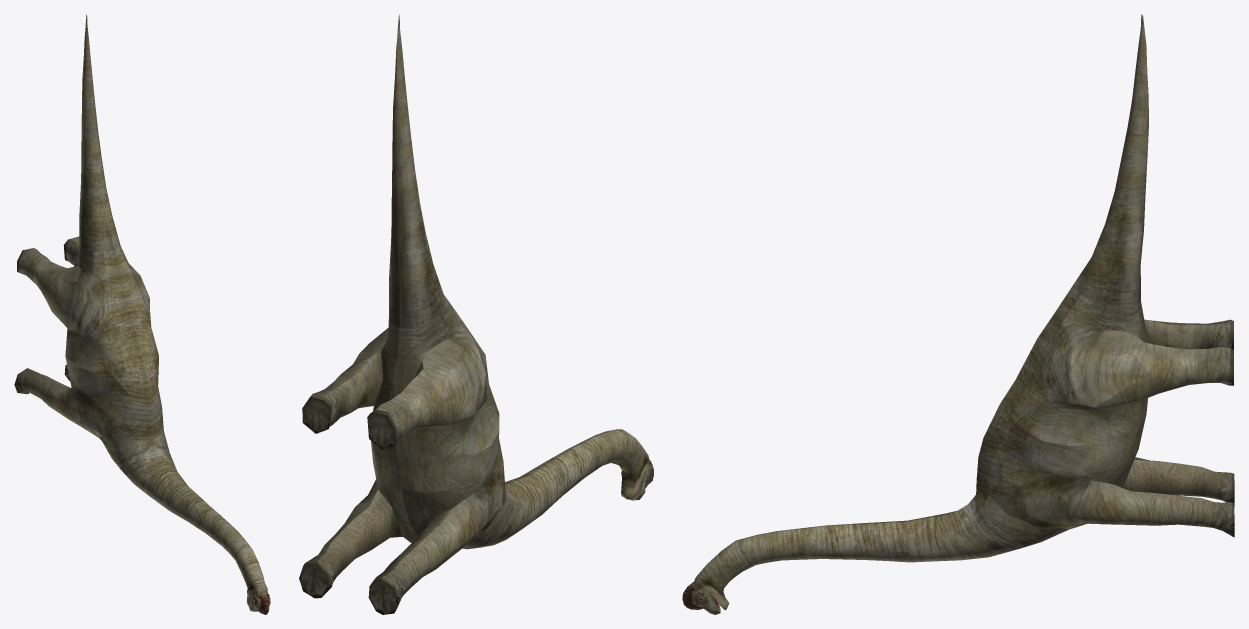
The model's file is Brac.obj.
3 renders of one model, left to right at view 1: azimuth 30°, elevation 25°; view 2: azimuth 150°, elevation 25°; view 3: azimuth 270°, elevation 25°, orthographic. The views are drawn at different scales.
Visible parts, largest first — view 1: D_L_Calf_mesh; view 2: D_L_Calf_mesh; view 3: D_L_Calf_mesh.
Part boxes in pixels (x1,y1,x2,y2): D_L_Calf_mesh: (14,14,270,614); D_L_Calf_mesh: (299,14,653,614); D_L_Calf_mesh: (682,14,1234,614).
Size of the model in its own units: 2.56 by 15.13 by 12.62.
1 material, 1 textured.
